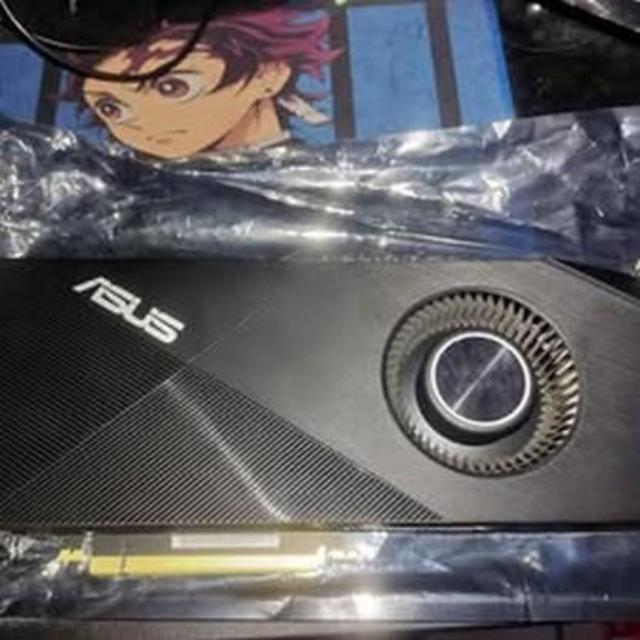GPU: (0, 258, 640, 584)
